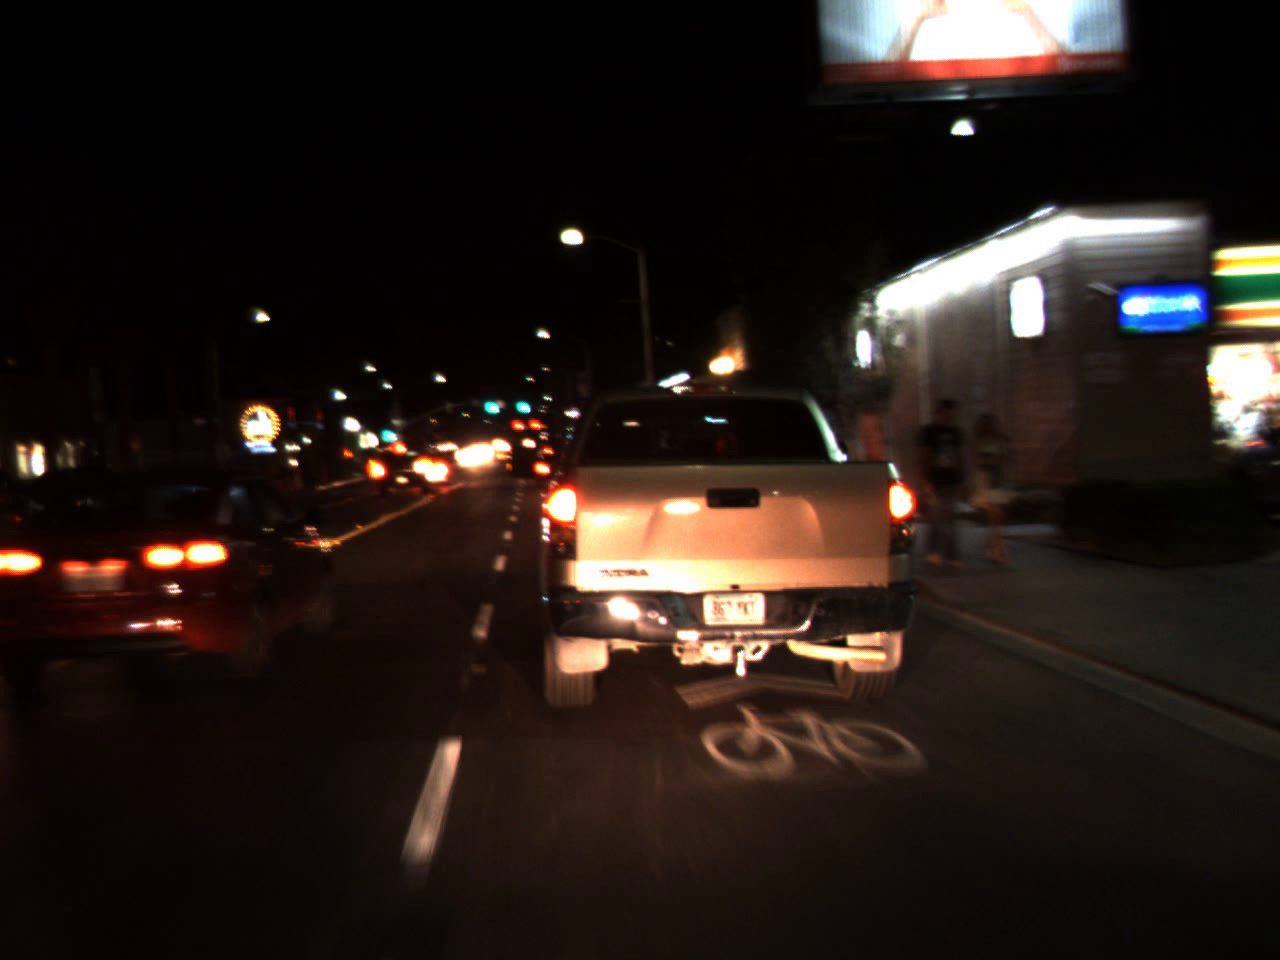go: (510, 389, 533, 416), (480, 385, 498, 418), (378, 414, 394, 447)
